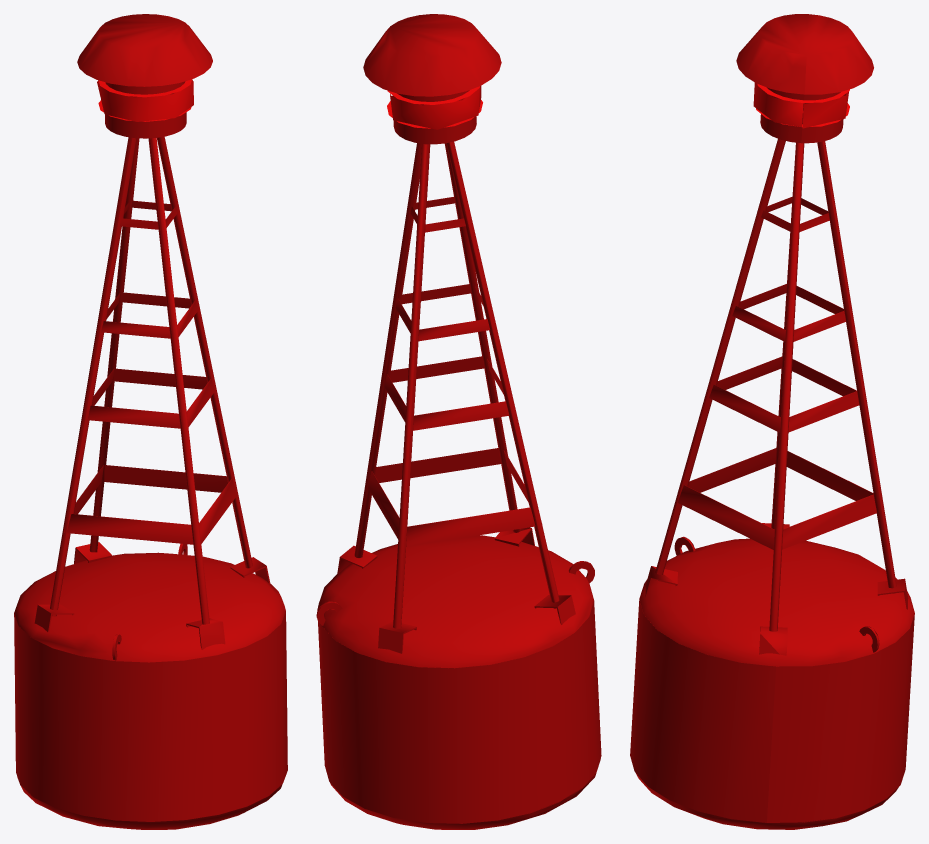
The model's file is boa.glb.
The picture shows the model from 3 angles, left to right: view 1: azimuth 30°, elevation 25°; view 2: azimuth 150°, elevation 25°; view 3: azimuth 270°, elevation 25°; orthographic projection.
Visible parts, largest first — view 1: Material1-material, Material0-material; view 2: Material1-material, Material0-material; view 3: Material1-material, Material0-material.
Part boxes in pixels (x1=…): Material1-material: x1=14, y1=14, x2=287, y2=829; Material0-material: x1=97, y1=79, x2=193, y2=121; Material1-material: x1=316, y1=14, x2=601, y2=829; Material0-material: x1=387, y1=86, x2=482, y2=129; Material1-material: x1=630, y1=14, x2=914, y2=829; Material0-material: x1=753, y1=82, x2=849, y2=128.
Size of the model in its own units: 1.01 by 3.07 by 1.03.
